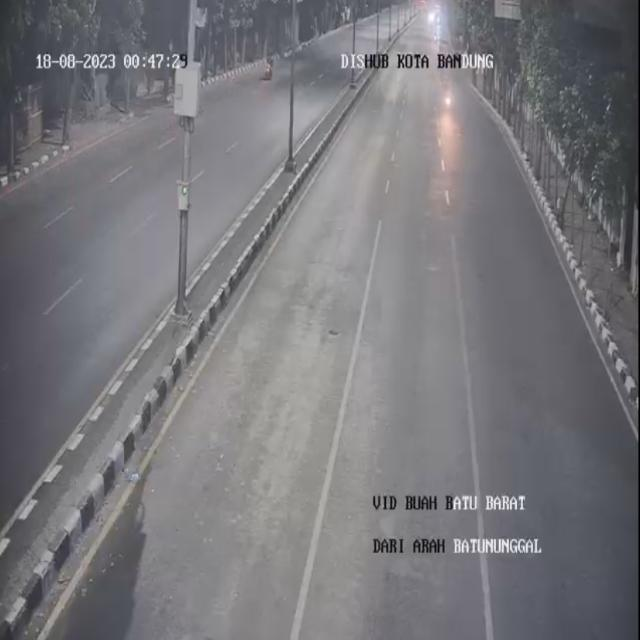motorcycle: (442, 79, 458, 115)
